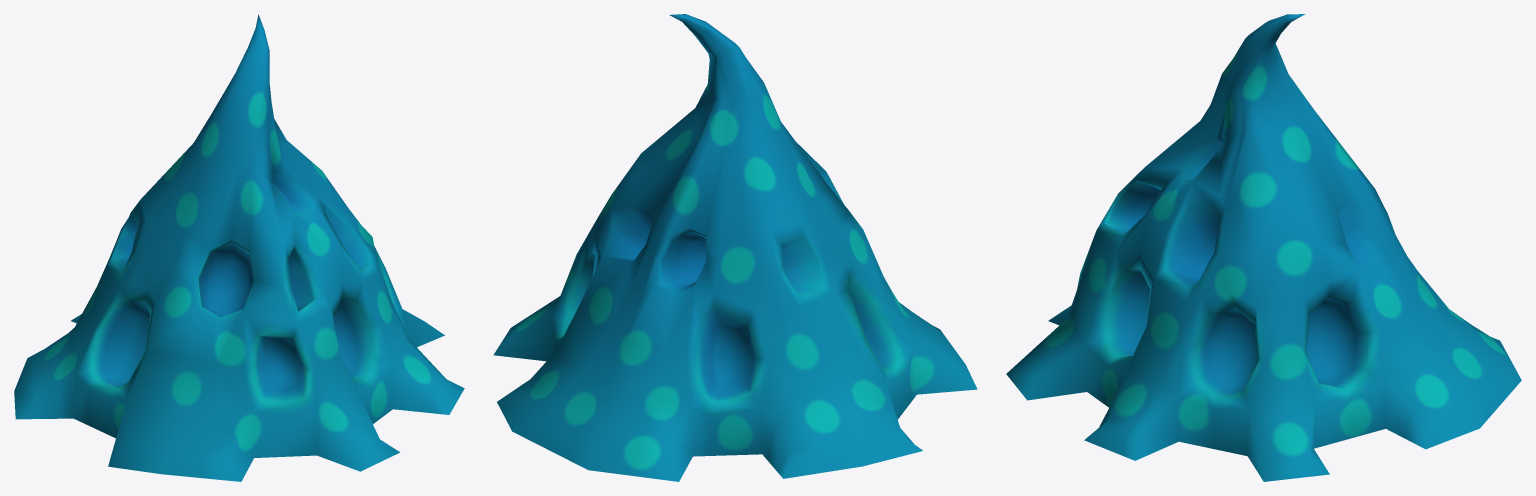
File: PLT_A.fbx
3 views of the same model, side by side, from view 1: azimuth 30°, elevation 25°; view 2: azimuth 150°, elevation 25°; view 3: azimuth 270°, elevation 25° (orthographic). The views are drawn at different scales.
Parts seen in each view (by area): view 1: plantA; view 2: plantA; view 3: plantA.
Part boxes in pixels (x1,y1,x2,y2): plantA: (14, 14, 464, 481); plantA: (493, 14, 977, 481); plantA: (1006, 14, 1521, 481).
Bounding box in the file's own units: 137 × 112 × 138.
